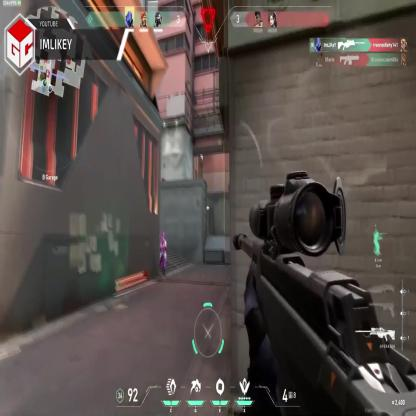enemy: (159, 234, 168, 276)
enemy_head: (162, 235, 164, 242)
